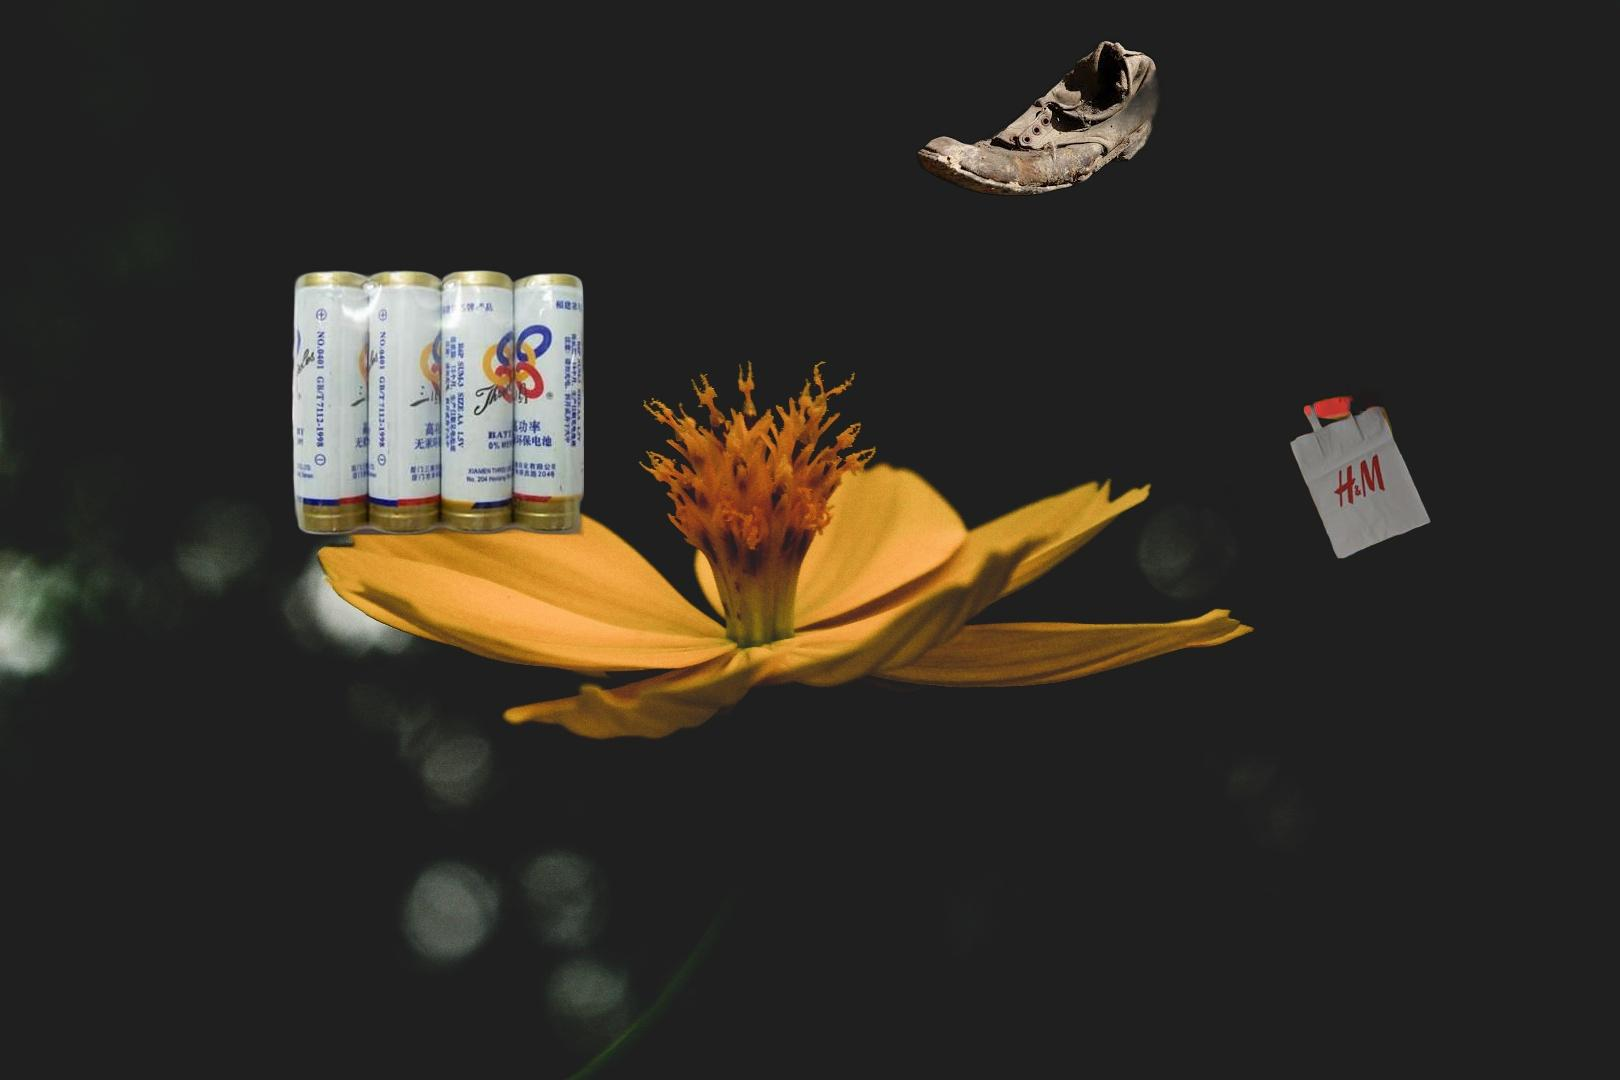battery: (292, 262, 585, 538)
paper-bag: (1186, 372, 1434, 563)
shoes: (900, 36, 1175, 219)
